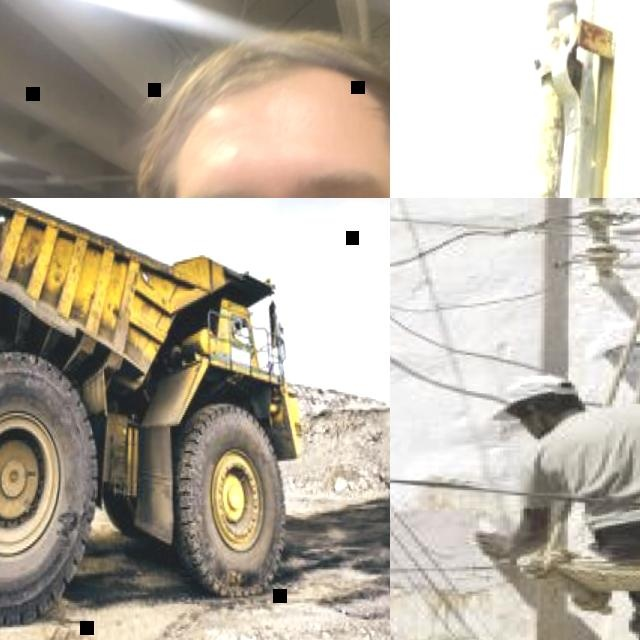Hardhat: (500, 371, 586, 414)
NO-Hardhat: (168, 28, 390, 176)
NO-Mask: (522, 412, 550, 438)
NO-Safety Vest: (559, 403, 640, 529)
Person: (20, 23, 390, 198), (479, 366, 640, 640)
machinery: (0, 198, 316, 640)
